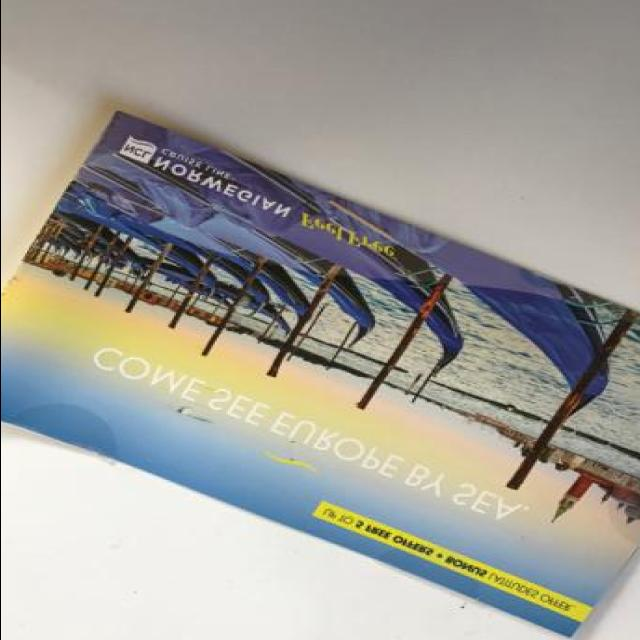kertas: (0, 106, 640, 640)
